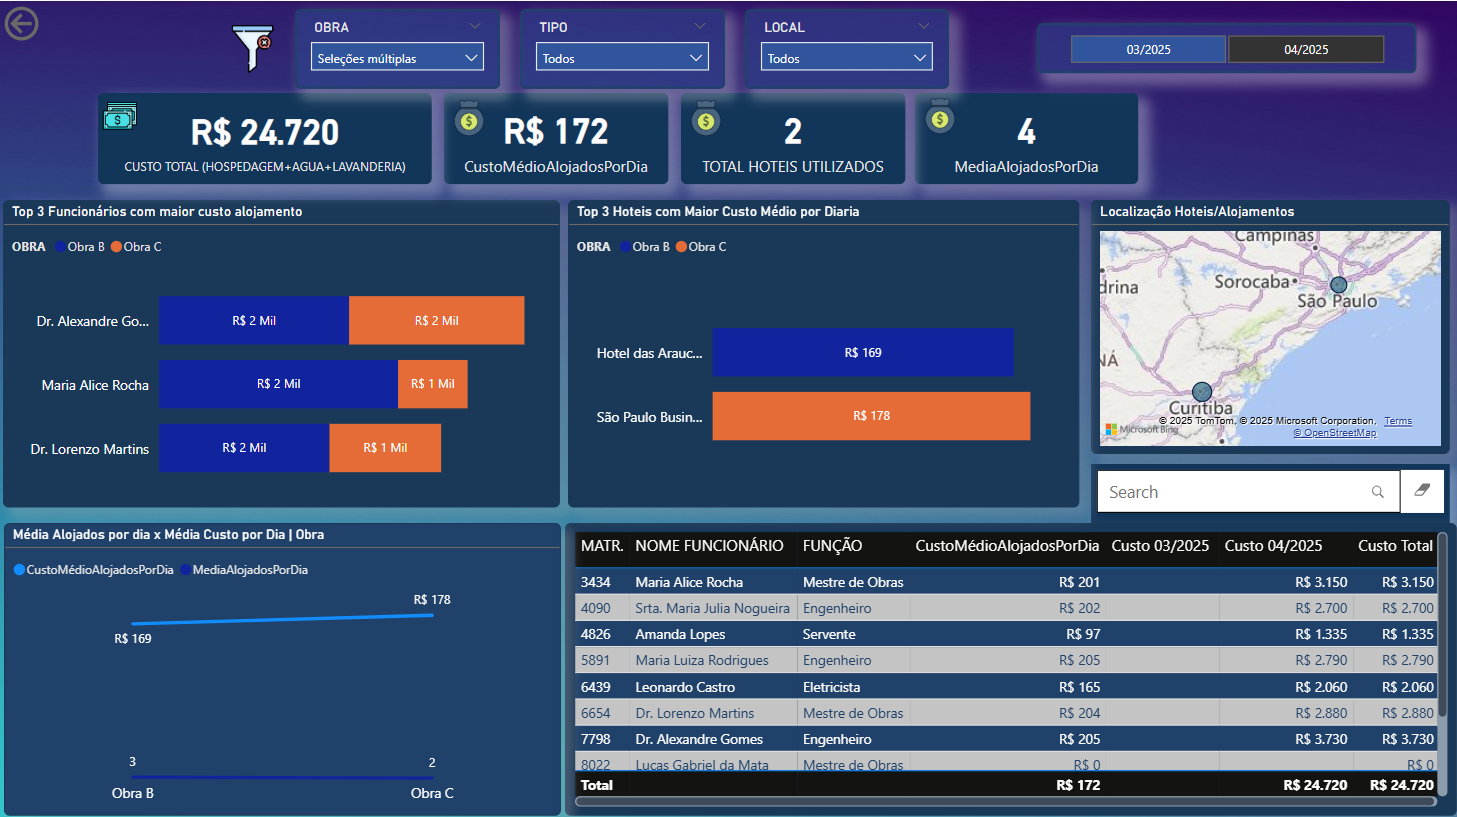

This screenshot's page, from the dashboard's own definition file:
{"tool":"powerbi","page":{"name":"Funcionarios","canvas":[1280,720],"ordinal":2},"visuals":[{"type":"card","title":"MÉDIA PESSOAS ALOJADAS/DIA","fields":{"Values":["MEDIDAS MEDIAS.MediaAlojadosPorDia"]},"box":[804.3,80.8,195.8,79.9],"z":0},{"type":"barChart","title":"Top 3 Funcionários com maior custo alojamento","fields":{"Y":["MEDIDAS.CUSTO TOTAL"],"Series":["tb_hipotetica.OBRA"],"Category":["tb_hipotetica.NOME FUNCIONÁRIO"]},"box":[3.5,174.7,489.1,270.4],"z":1000},{"type":"card","title":"MÉDIA PESSOAS ALOJADAS/DIA","fields":{"Values":["MEDIDAS MEDIAS.CustoMédioAlojadosPorDia"]},"box":[390.7,80.8,196.7,79.9],"z":2000},{"type":"map","title":"Localização Hoteis/Alojamentos","fields":{"Category":["tb_hipotetica.LOCAL"],"Size":["MEDIDAS MEDIAS.MediaAlojadosPorDia"]},"box":[958.8,174.7,315.2,223],"z":3000},{"type":"card","title":"MÉDIA PESSOAS ALOJADAS/DIA","fields":{"Values":["MEDIDAS.CUSTO TOTAL"]},"box":[86.9,80.8,293.3,79.9],"z":4000},{"type":"textFilter25A4896A83E0487089E2B90C9AE57C8A","title":"MÉDIA PESSOAS ALOJADAS/DIA","fields":{"field":["tb_hipotetica.NOME FUNCIONÁRIO"]},"box":[958.8,406.5,315.2,51.8],"z":5000},{"type":"card","title":"MÉDIA PESSOAS ALOJADAS/DIA","fields":{"Values":["MEDIDAS.Total hoteis visitados"]},"box":[598.8,80.8,196.7,79.9],"z":6000},{"type":"tableEx","title":"Top 10 Hoteis com Maior Custo Médio por Diaria","fields":{"Values":["tb_hipotetica.MATR.","tb_hipotetica.NOME FUNCIONÁRIO","tb_hipotetica.FUNÇÃO","MEDIDAS MEDIAS.CustoMédioAlojadosPorDia","MEDIDAS.CUSTO 032025","MEDIDAS.CUSTO 042025","MEDIDAS.CUSTO TOTAL"]},"box":[497,458.3,783.2,257.3],"z":7000},{"type":"lineChart","title":"Média Alojados por dia x Média Custo por Dia | Obra","fields":{"Category":["tb_hipotetica.OBRA"],"Y":["MEDIDAS MEDIAS.CustoMédioAlojadosPorDia","MEDIDAS MEDIAS.MediaAlojadosPorDia"]},"box":[4.4,458.3,489.1,257.3],"z":8000},{"type":"slicer","title":"MÉDIA PESSOAS ALOJADAS/DIA","fields":{"Values":["tb_hipotetica.TIPO"]},"box":[457.5,6.8,180,69.6],"z":9000},{"type":"slicer","title":"MÉDIA PESSOAS ALOJADAS/DIA","fields":{"Values":["CALENDARIO.MES CUSTO"]},"box":[911.4,19.3,332.8,43.9],"z":10000},{"type":"slicer","title":"MÉDIA PESSOAS ALOJADAS/DIA","fields":{"Values":["tb_hipotetica.OBRA"]},"box":[260.1,6.8,180.2,69.6],"z":11000},{"type":"slicer","title":"MÉDIA PESSOAS ALOJADAS/DIA","fields":{"Values":["tb_hipotetica.LOCAL"]},"box":[654.8,6.8,179.1,69.6],"z":12000},{"type":"image","box":[804.5,78.6,44.2,44.2],"z":13000},{"type":"image","box":[599.2,80.6,44.2,44.2],"z":14000},{"type":"image","box":[391,80.6,44.2,44.2],"z":15000},{"type":"image","box":[86.4,80.6,40.3,40.3],"z":16000},{"type":"image","box":[196.5,13.8,52.1,55],"z":17000},{"type":"actionButton","box":[0,0,45,39.7],"z":18000},{"type":"barChart","title":"Top 3 Hoteis com Maior Custo Médio por Diaria","fields":{"Series":["tb_hipotetica.OBRA"],"Y":["MEDIDAS MEDIAS.CustoMédioAlojadosPorDia"],"Category":["tb_hipotetica.FORNECEDOR HOTEL/ALOJ"]},"box":[499.6,174.7,448.7,270.4],"z":19000}]}

Visuals, with their boxes in screenshot pixels (x1, y1, x2, y2), scaled from the page's 1280x720 canvas onto the 1457x817 screenshot:
"MÉDIA PESSOAS ALOJADAS/DIA" card: detection(916, 92, 1138, 182)
"Top 3 Funcionários com maior custo alojamento" barChart: detection(4, 198, 561, 505)
"MÉDIA PESSOAS ALOJADAS/DIA" card: detection(445, 92, 669, 182)
"Localização Hoteis/Alojamentos" map: detection(1091, 198, 1450, 451)
"MÉDIA PESSOAS ALOJADAS/DIA" card: detection(99, 92, 433, 182)
"MÉDIA PESSOAS ALOJADAS/DIA" textFilter25A4896A83E0487089E2B90C9AE57C8A: detection(1091, 461, 1450, 520)
"MÉDIA PESSOAS ALOJADAS/DIA" card: detection(682, 92, 906, 182)
"Top 10 Hoteis com Maior Custo Médio por Diaria" tableEx: detection(566, 520, 1456, 812)
"Média Alojados por dia x Média Custo por Dia | Obra" lineChart: detection(5, 520, 562, 812)
"MÉDIA PESSOAS ALOJADAS/DIA" slicer: detection(521, 8, 726, 87)
"MÉDIA PESSOAS ALOJADAS/DIA" slicer: detection(1037, 22, 1416, 72)
"MÉDIA PESSOAS ALOJADAS/DIA" slicer: detection(296, 8, 501, 87)
"MÉDIA PESSOAS ALOJADAS/DIA" slicer: detection(745, 8, 949, 87)
image: detection(916, 89, 966, 139)
image: detection(682, 91, 732, 142)
image: detection(445, 91, 495, 142)
image: detection(98, 91, 144, 137)
image: detection(224, 16, 283, 78)
actionButton: detection(0, 0, 51, 45)
"Top 3 Hoteis com Maior Custo Médio por Diaria" barChart: detection(569, 198, 1079, 505)
